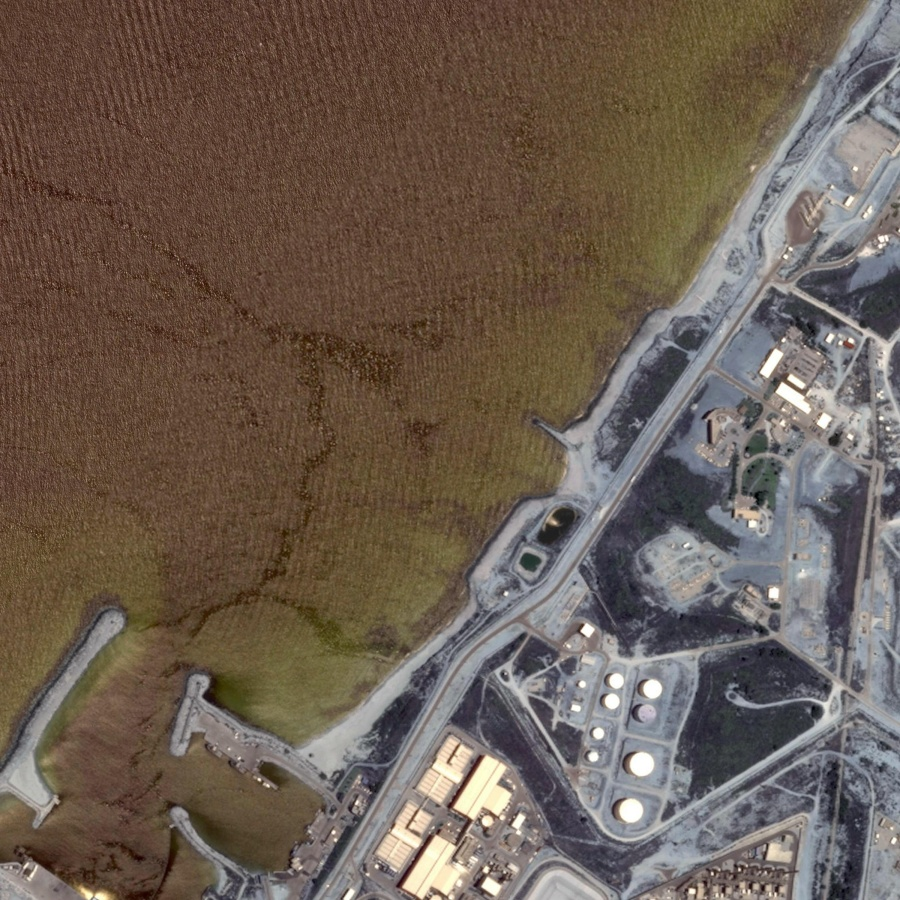PowerPlant: (502, 622, 735, 836)
